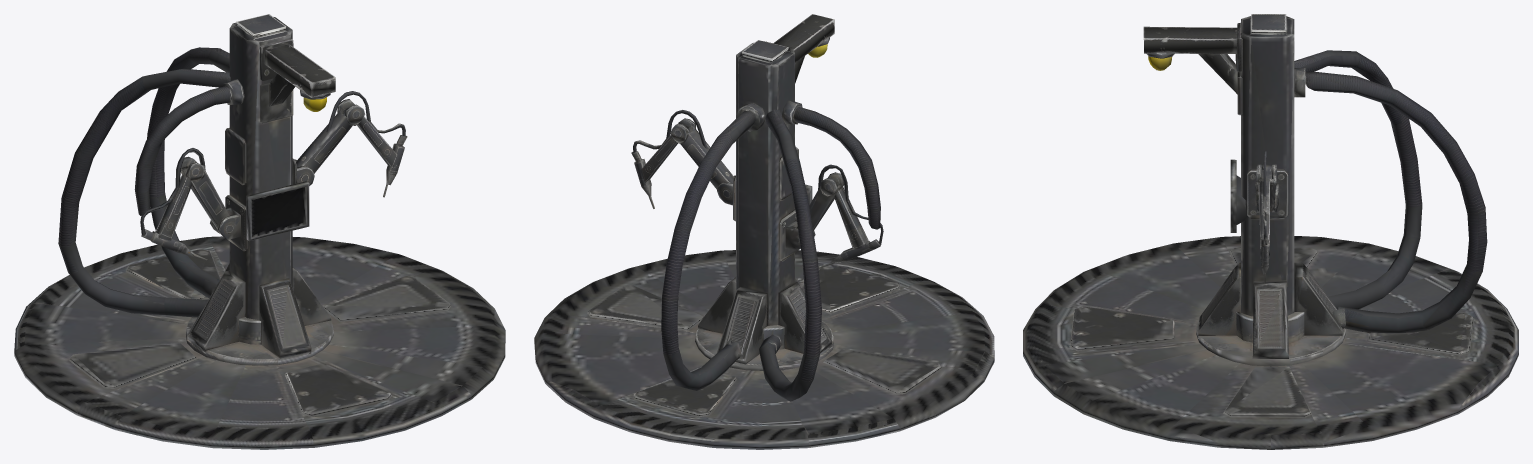
Rendered from repair_station.glb.
3 views of the same model, side by side, from view 1: azimuth 30°, elevation 25°; view 2: azimuth 150°, elevation 25°; view 3: azimuth 270°, elevation 25° (orthographic). The views are drawn at different scales.
Parts seen in each view (by area): view 1: repair_station; view 2: repair_station; view 3: repair_station.
Part boxes in pixels (x1,y1,x2,y2): repair_station: (14,14,505,449); repair_station: (534,14,994,449); repair_station: (1023,14,1518,449).
Size of the model in its own units: 4.99 by 3.6 by 5.
Materials: 1 (1 with a texture image).
